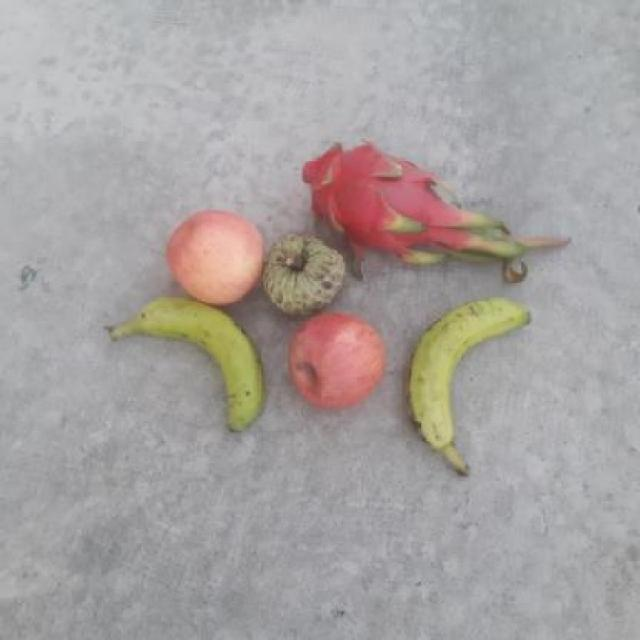apple: (161, 205, 267, 308), (290, 306, 388, 408)
banana: (99, 292, 267, 432), (404, 294, 534, 458)
dragon fruit: (298, 146, 449, 252)
sugar apple: (265, 224, 349, 318)
